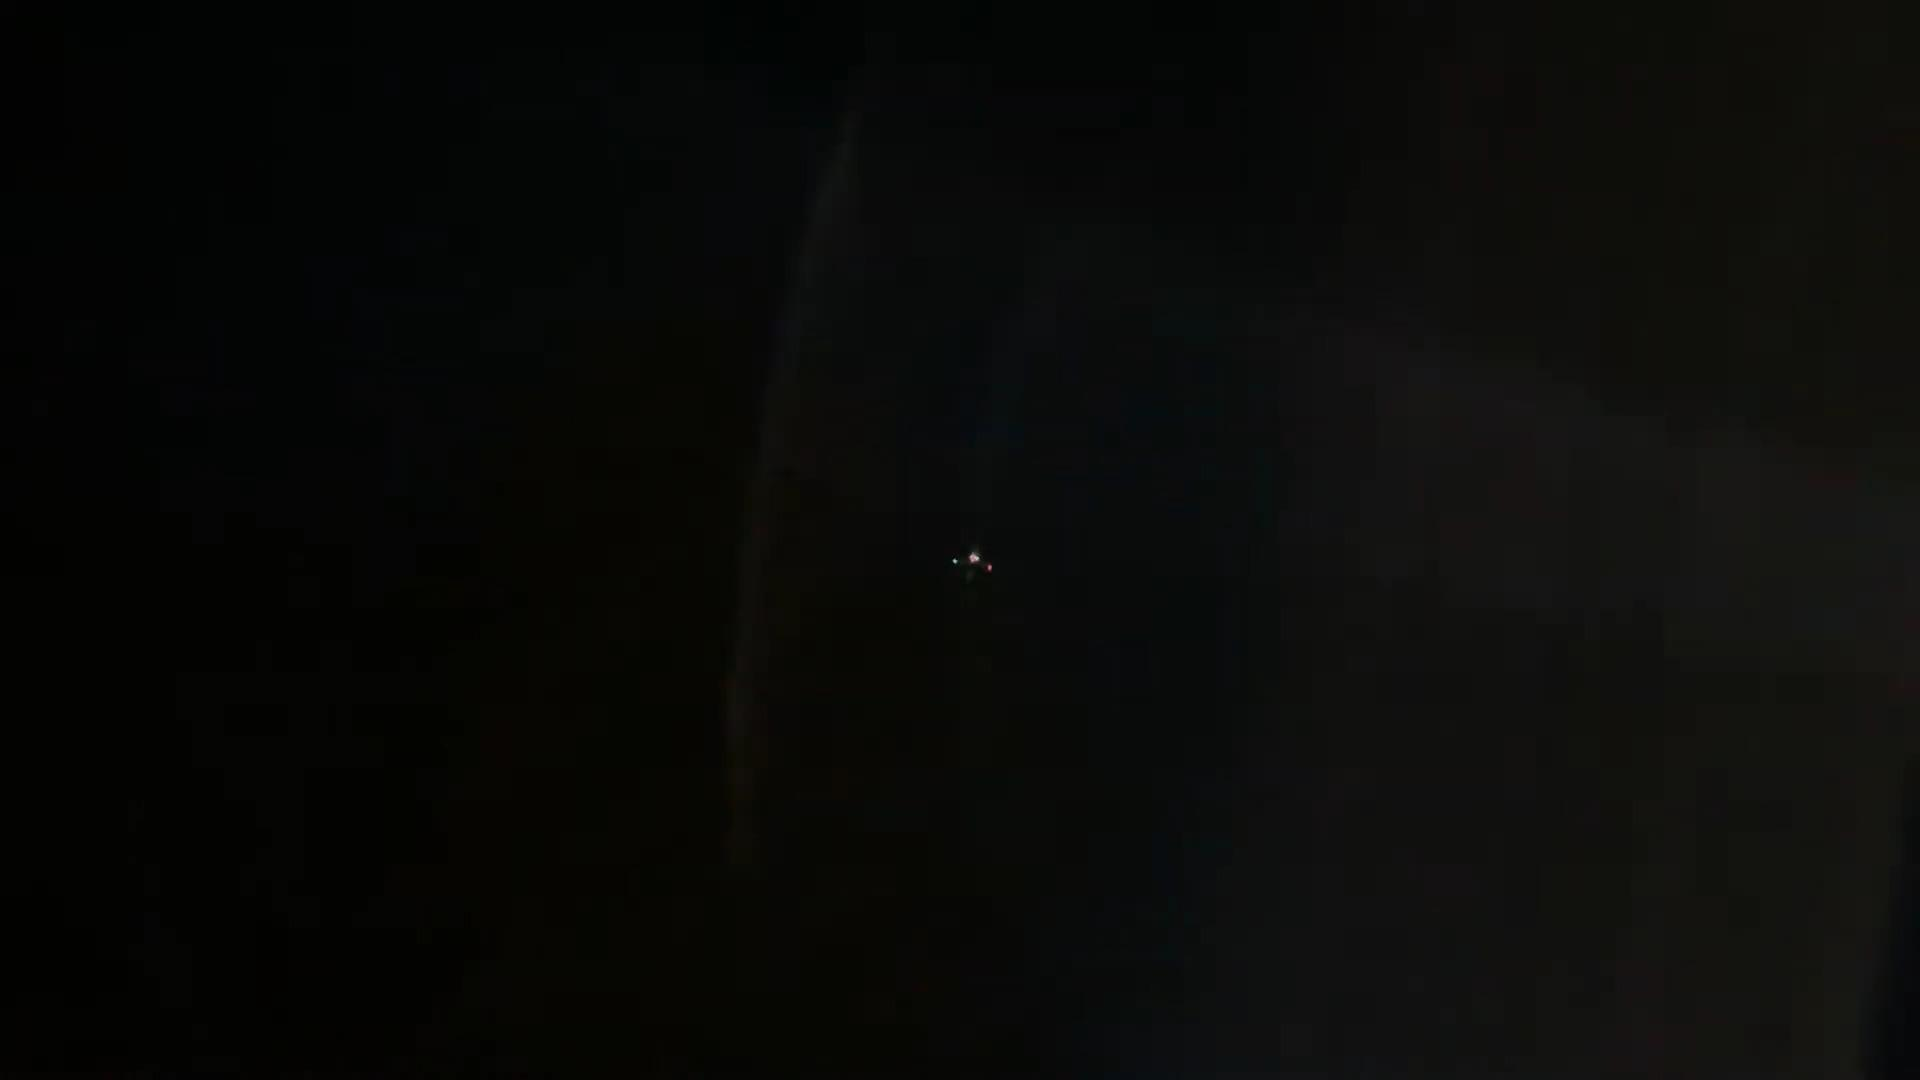Plane: (926, 535, 1011, 596)
